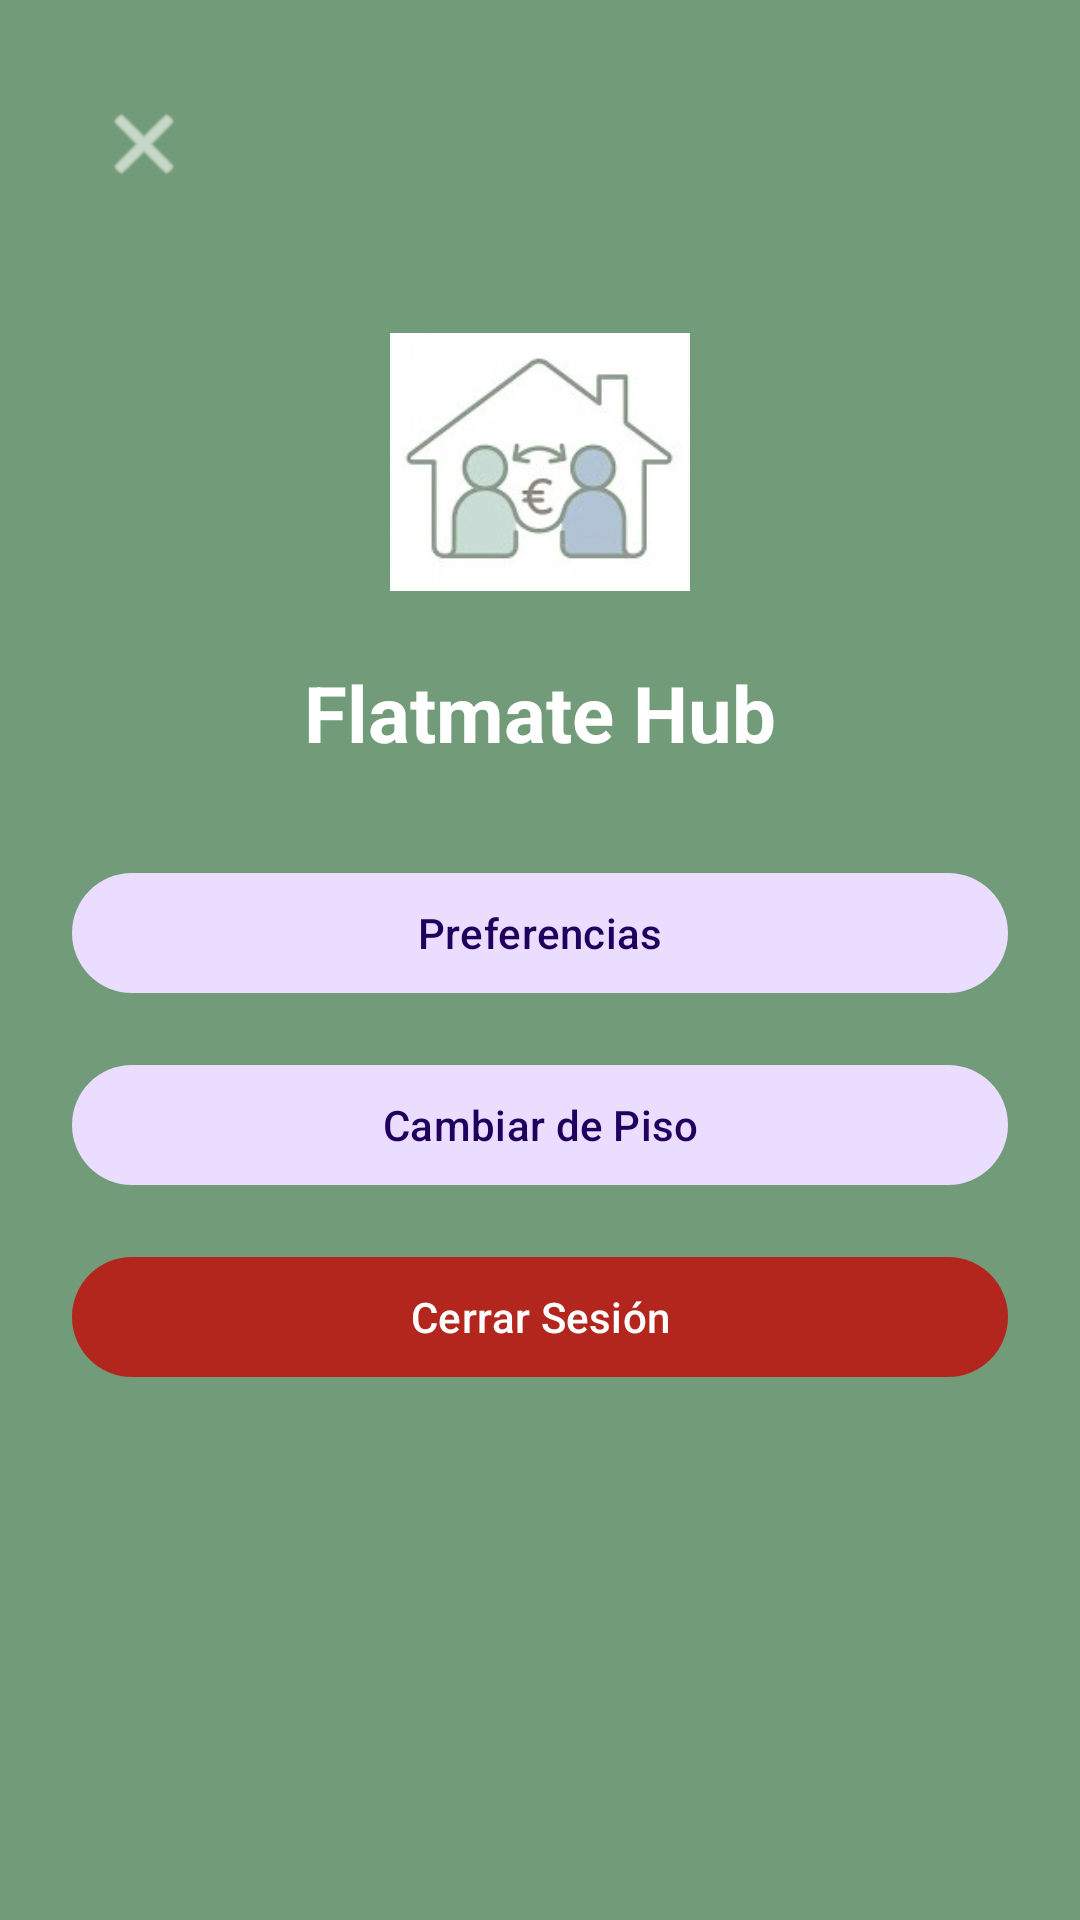

Icons on this 1080 x 1920 Android screen, each with its box as (x1, y1, x2, y2):
Cerrar menú lateral: (114, 114, 174, 174)
